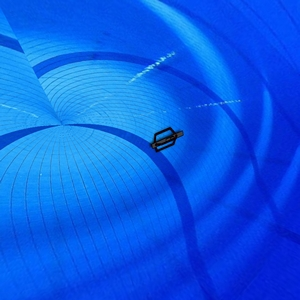submarine: (145, 122, 187, 158)
